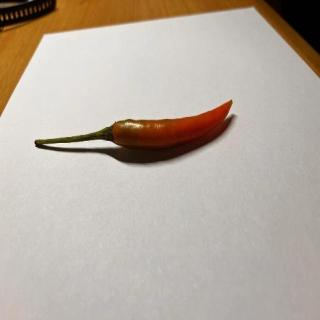Cabai Merah: (35, 100, 234, 150)
